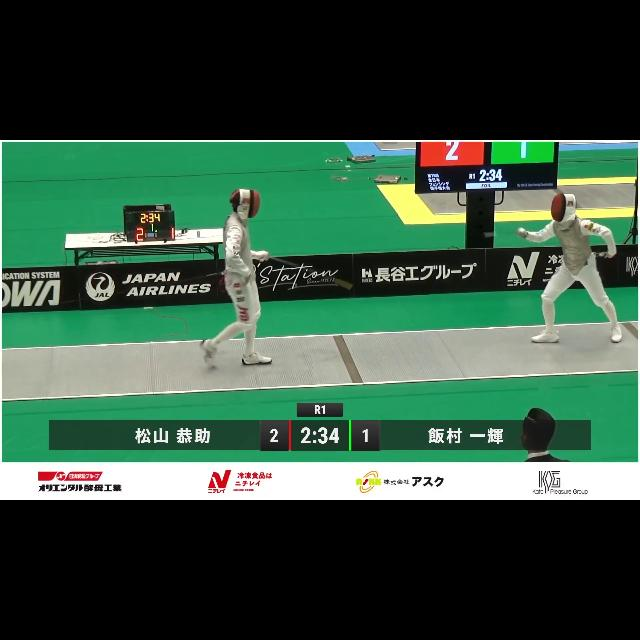blade: (257, 244, 363, 300), (479, 222, 529, 245)
